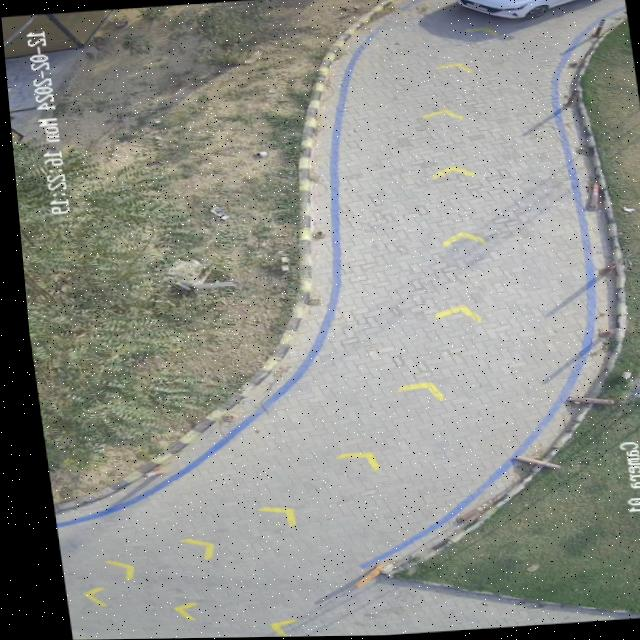car: (457, 0, 577, 19)
